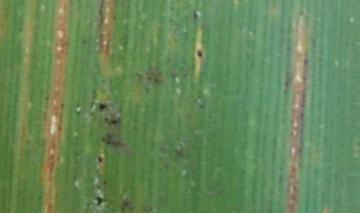tarspot: (193, 43, 208, 67), (93, 147, 108, 168), (93, 98, 110, 113), (94, 195, 105, 209)
